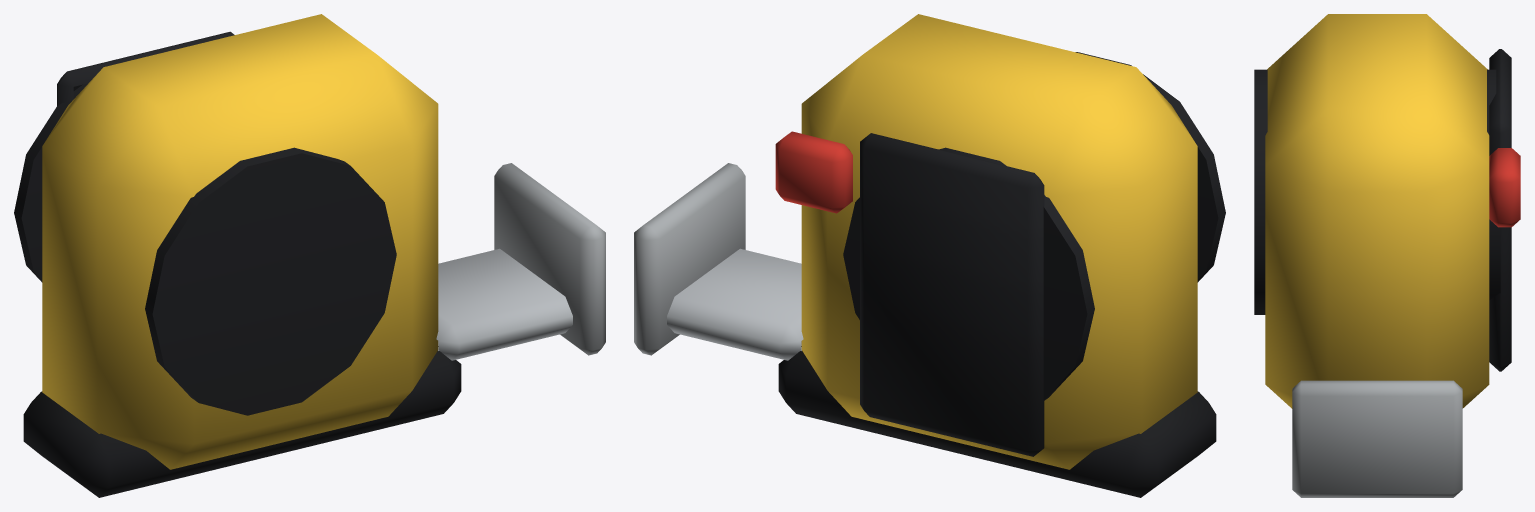
Rendered from SM_TapeMeasure_01.glb.
3 renders of one model, left to right at view 1: azimuth 30°, elevation 25°; view 2: azimuth 150°, elevation 25°; view 3: azimuth 270°, elevation 25°, orthographic. The views are drawn at different scales.
Parts seen in each view (by area): view 1: SM_TapeMeasure_01; view 2: SM_TapeMeasure_01; view 3: SM_TapeMeasure_01.
Boxes of the visible parts, x1,y1,x2,y2 form: SM_TapeMeasure_01: (14,14,605,497); SM_TapeMeasure_01: (634,14,1225,497); SM_TapeMeasure_01: (1254,14,1520,497).
Size of the model in its own units: 0.117 by 0.082 by 0.0595.
1 material, 1 textured.
